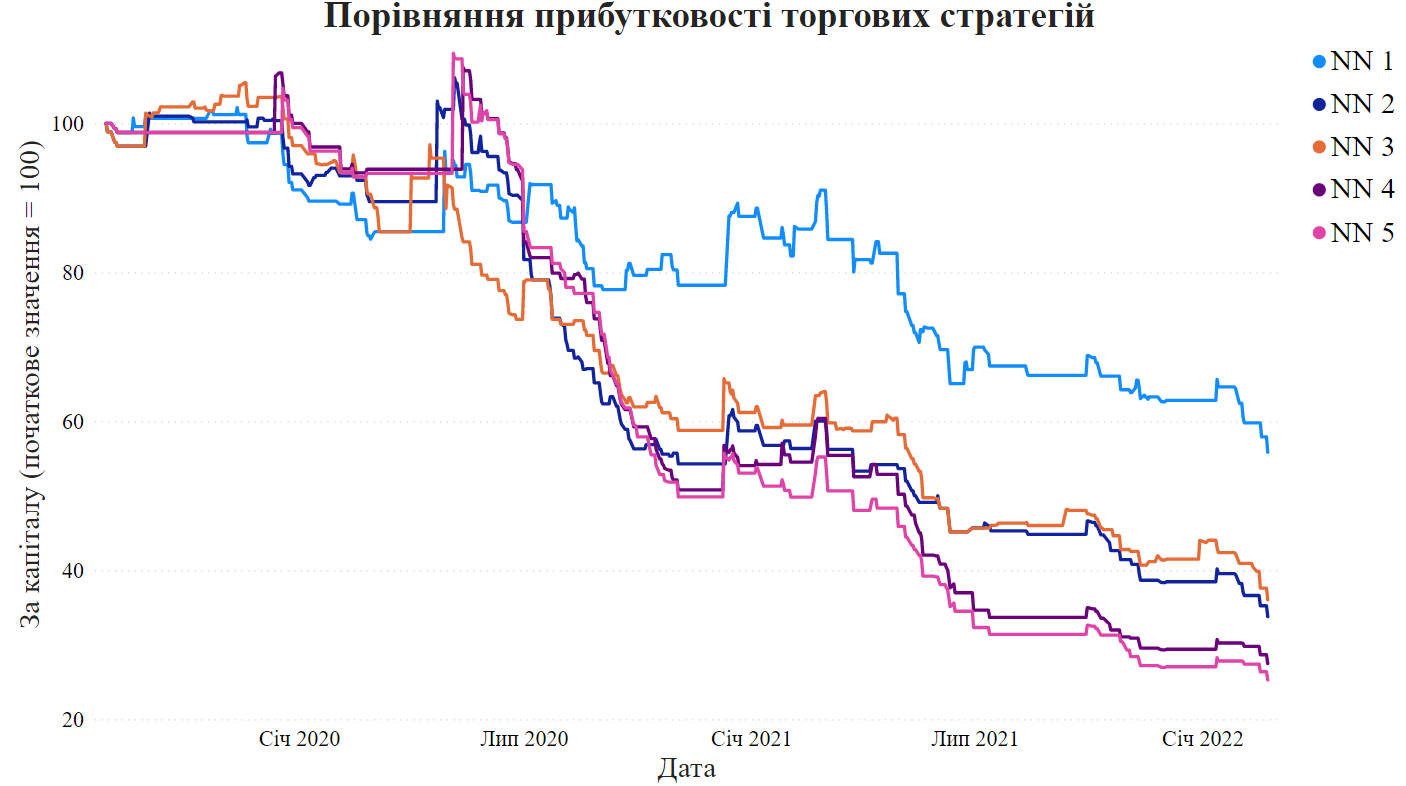

Layout of this report page (visuals, bound fields, positions):
{"tool":"powerbi","page":{"name":"Part 3","canvas":[1280,720],"ordinal":2},"visuals":[{"type":"lineChart","title":"Порівняння прибутковості торгових стратегій","fields":{"Category":["DateDim.Date.Variation.Date Hierarchy.Year","DateDim.Date.Variation.Date Hierarchy.Quarter","DateDim.Date.Variation.Date Hierarchy.Month","DateDim.Date.Variation.Date Hierarchy.Day"],"Y":["Sum(NN.Results 1)","Sum(NN.Results 2)","Sum(NN.Results 3)","Sum(NN.Results 4)","Sum(NN.Results 5)"]},"box":[10.3,0,1269.7,719.4],"z":0}]}

Visuals, with their boxes in screenshot pixels (x1, y1, x2, y2), scaled from the page's 1280x720 canvas onto the 1406x786 screenshot:
"Порівняння прибутковості торгових стратегій" lineChart: (x1=11, y1=0, x2=1405, y2=785)
